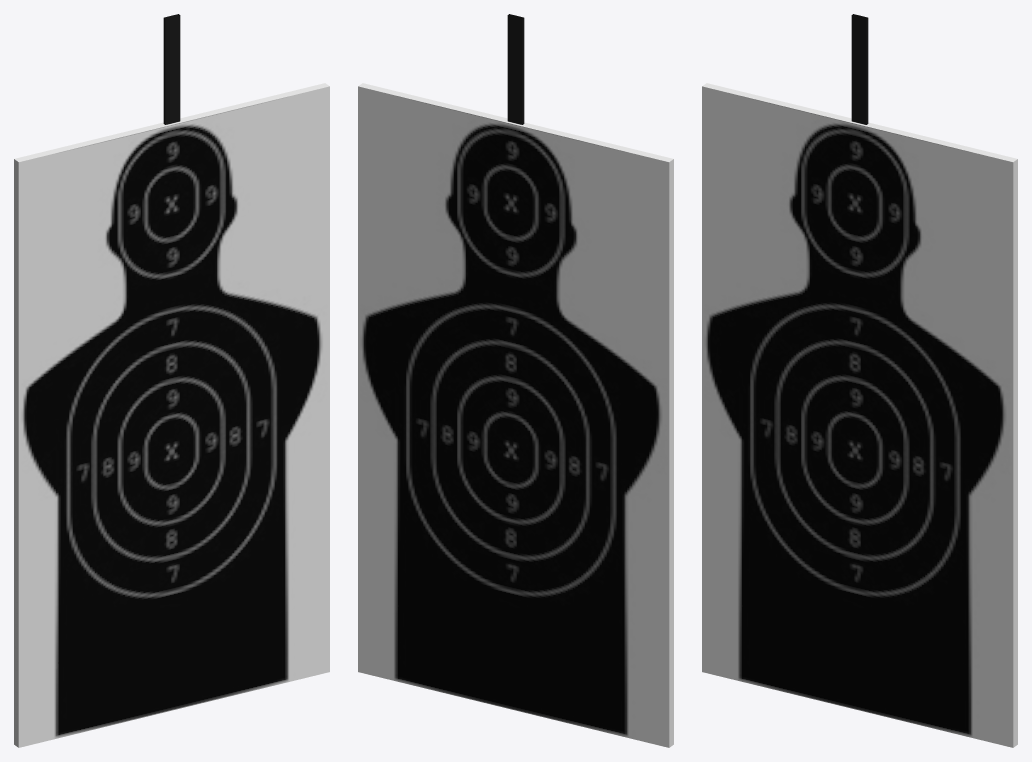
The model's file is Target_1.FBX.
3 views of the same model, side by side, from view 1: azimuth 30°, elevation 25°; view 2: azimuth 150°, elevation 25°; view 3: azimuth 330°, elevation 25° (orthographic).
Visible parts, largest first — view 1: Target_1; view 2: Target_1; view 3: Target_1.
Part boxes in pixels (x1,y1,x2,y2): Target_1: [14, 14, 329, 747]; Target_1: [358, 14, 673, 747]; Target_1: [702, 14, 1017, 747].
Size of the model in its own units: 0.4129 by 0.8775 by 0.0106.
